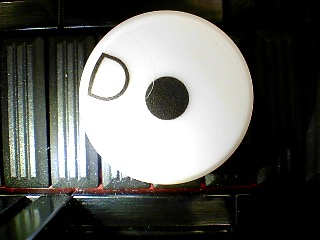BOHOMIPO1: (77, 9, 254, 185)
